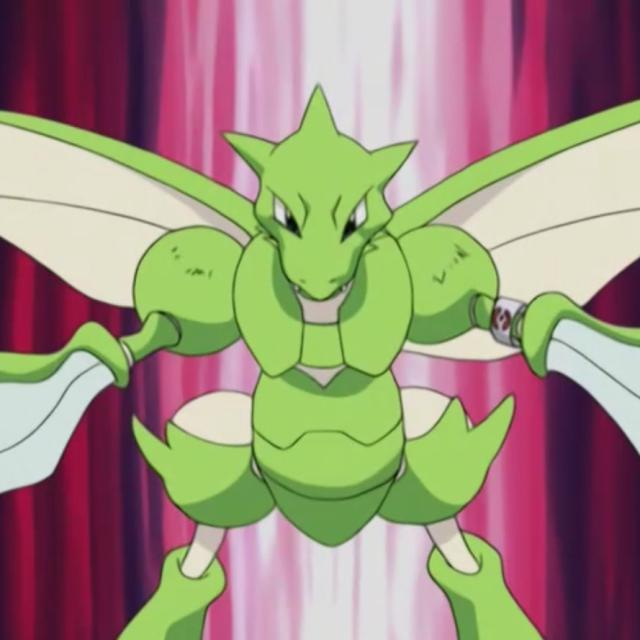Scyther: (24, 81, 610, 640)
